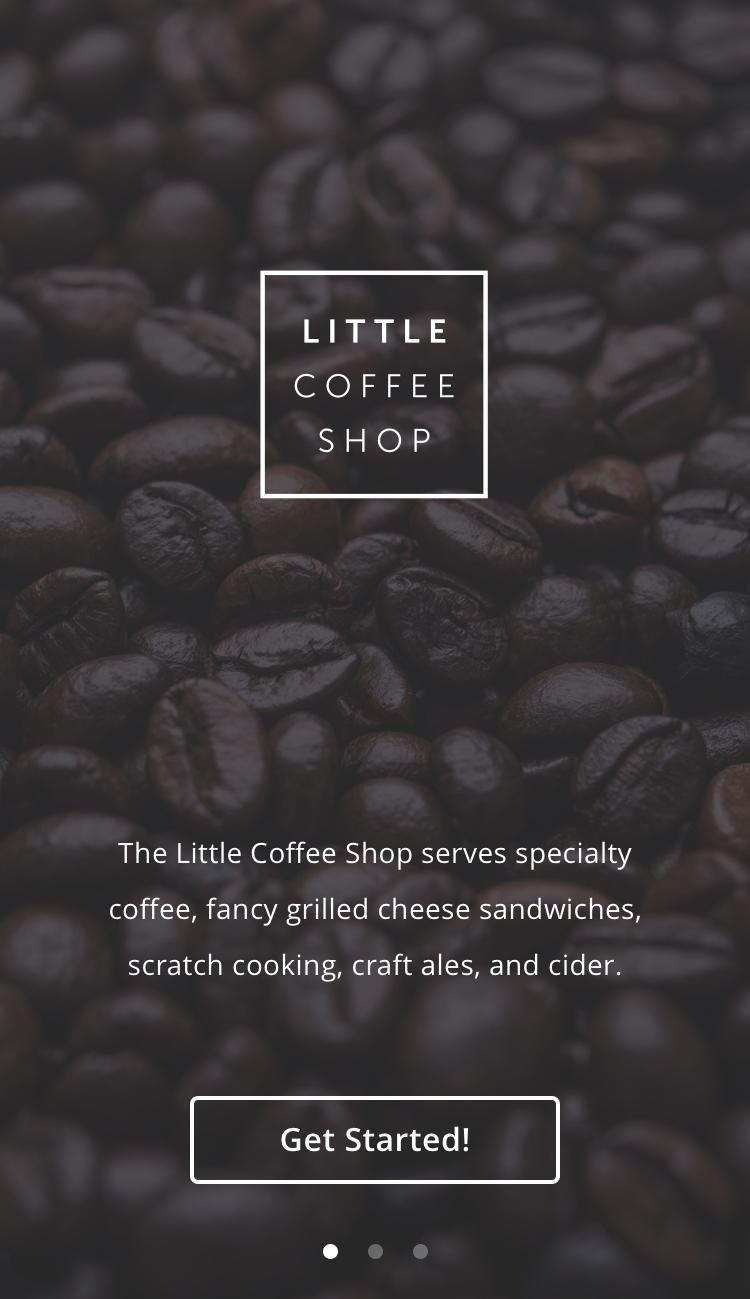BackgroundImage: (1, 1, 750, 1299)
Image: (259, 270, 489, 500)
PageIndicator: (322, 1242, 431, 1261)
Text: (109, 840, 642, 984)
TextButton: (190, 1095, 561, 1185)
